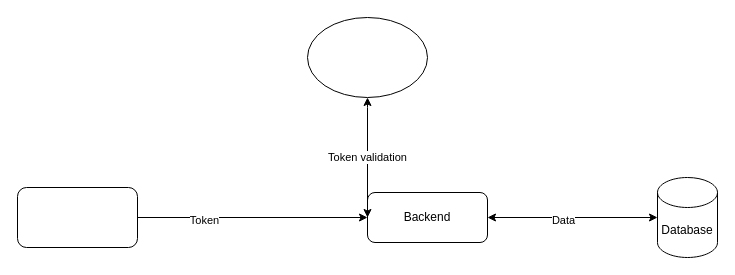
This 735x275 diagram has some shape labels left out. Each missing label, with the centre of its shape:
"Auth provider" goes at point 367,57.
"User interface" goes at point 77,217.
